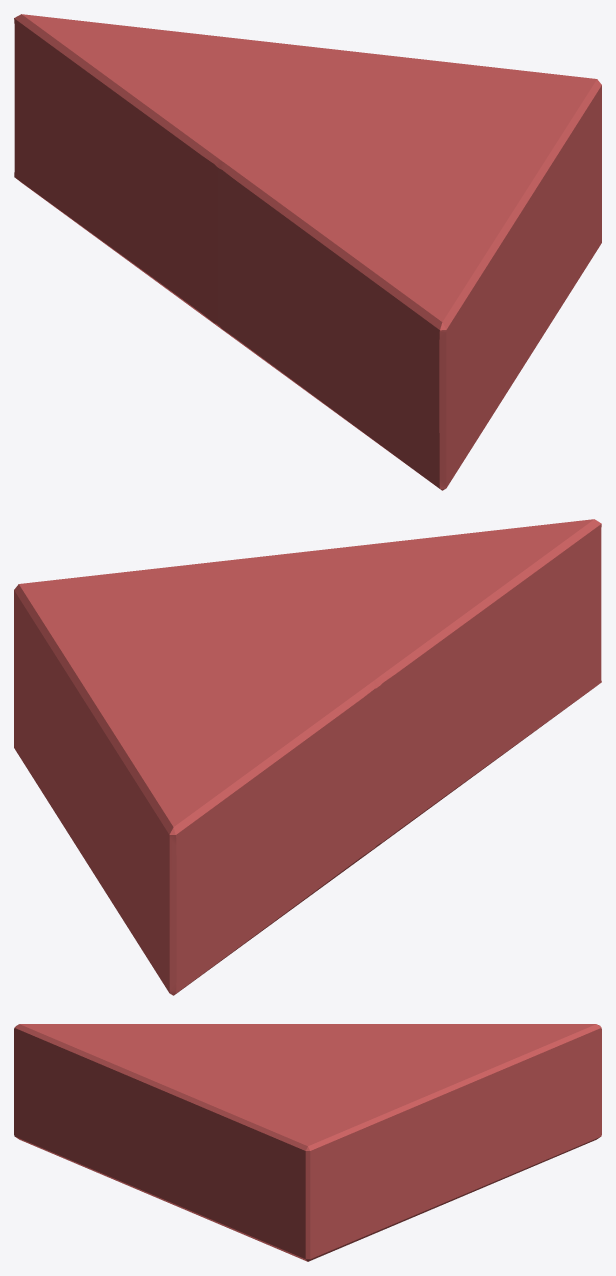
File: Triangulo_03.fbx
3 renders of one model, top to bottom at view 1: azimuth 30°, elevation 25°; view 2: azimuth 150°, elevation 25°; view 3: azimuth 270°, elevation 25°, orthographic. The views are drawn at different scales.
Parts seen in each view (by area): view 1: polySurface15; view 2: polySurface15; view 3: polySurface15.
Boxes of the visible parts, left/top/right/bottom form: polySurface15: left=14, top=14, right=601, bottom=490; polySurface15: left=14, top=519, right=601, bottom=995; polySurface15: left=14, top=1024, right=601, bottom=1261.
Bounding box in the file's own units: 2.98 × 1.29 × 5.93.
